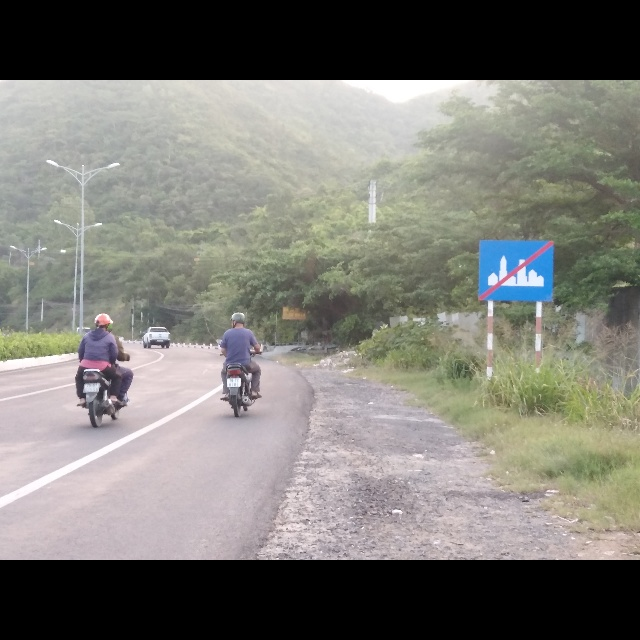Hết khu đông dân cư: (476, 237, 555, 304)
